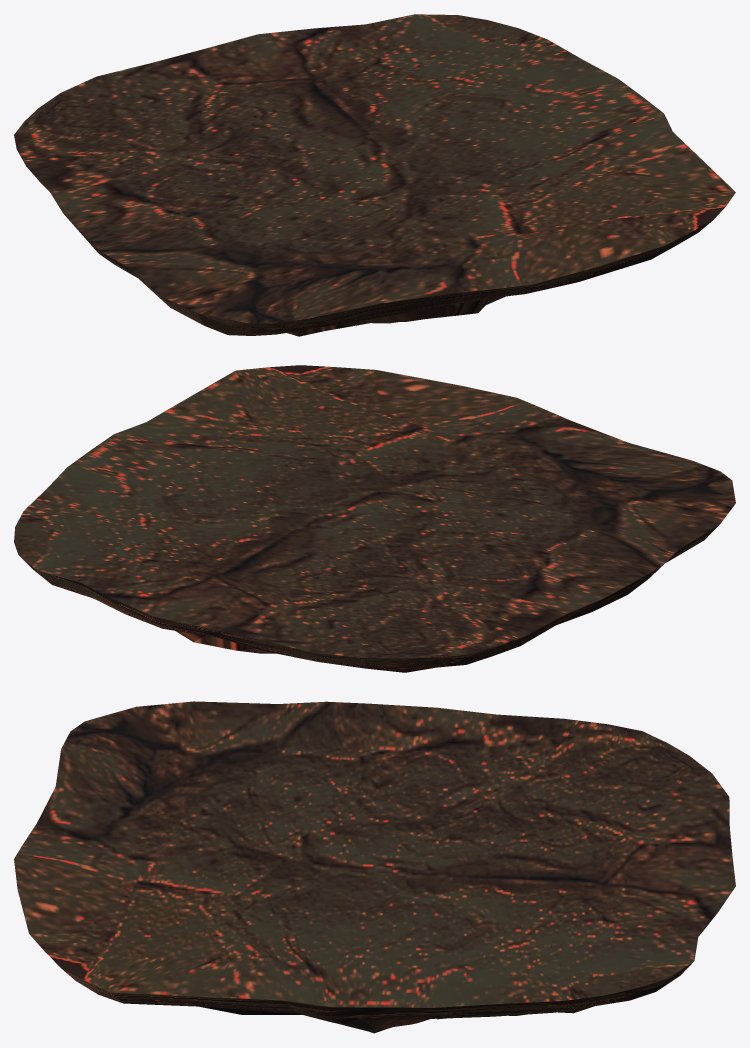
The model's file is PlatformToGaea.fbx.
3 renders of one model, top to bottom at view 1: azimuth 30°, elevation 25°; view 2: azimuth 150°, elevation 25°; view 3: azimuth 270°, elevation 25°, orthographic. The views are drawn at different scales.
Visible parts, largest first — view 1: platform to gaea; view 2: platform to gaea; view 3: platform to gaea.
Part boxes in pixels (x1=…): platform to gaea: x1=14, y1=14, x2=735, y2=336; platform to gaea: x1=14, y1=365, x2=735, y2=672; platform to gaea: x1=14, y1=701, x2=735, y2=1033.
Size of the model in its own units: 3084 by 802 by 3071.
